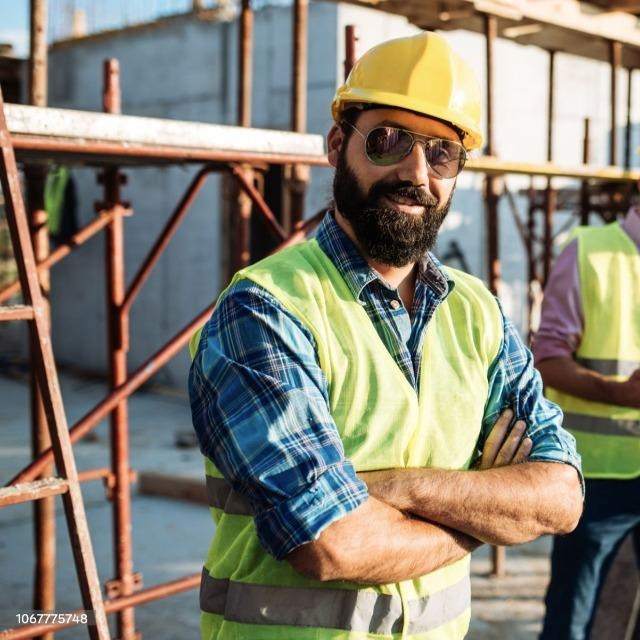Con_Casco: (329, 32, 487, 259)
Con_Chaleco: (221, 239, 490, 640)
